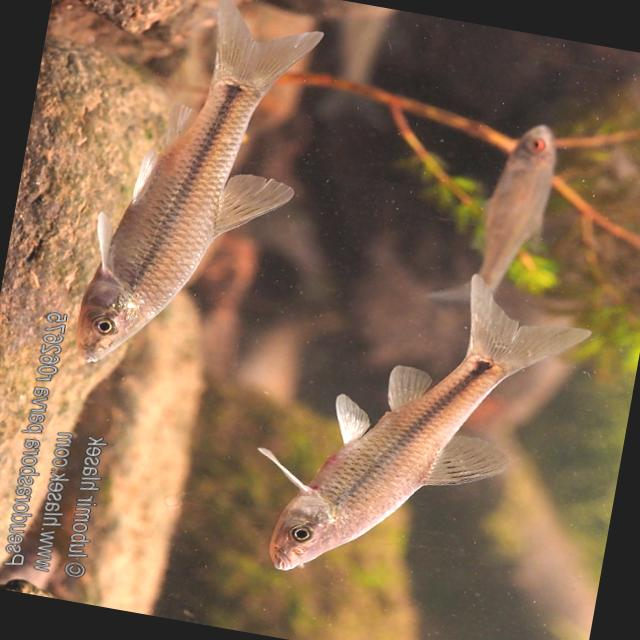Cakil Baligi: (253, 243, 604, 621), (66, 0, 340, 394)
